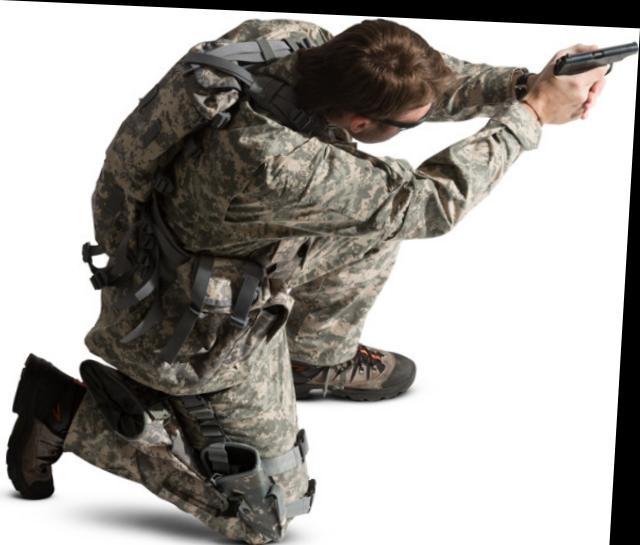other: (61, 7, 462, 517)
